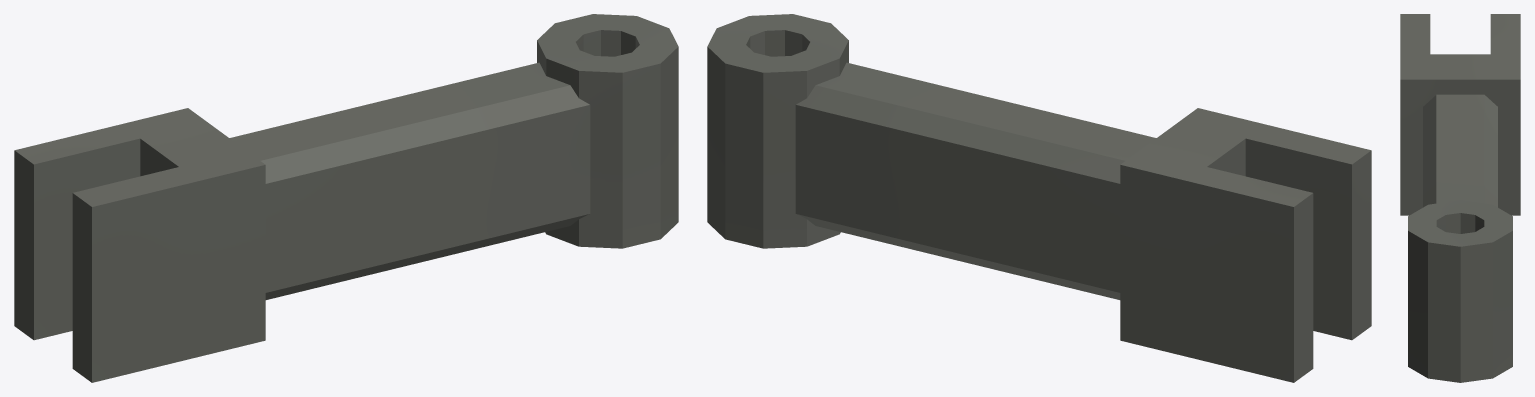
File: WarrensC_PWC20_Spanner_Mars_SM.fbx
3 renders of one model, left to right at view 1: azimuth 30°, elevation 25°; view 2: azimuth 150°, elevation 25°; view 3: azimuth 270°, elevation 25°, orthographic. The views are drawn at different scales.
Parts seen in each view (by area): view 1: WarrensC_PWC20_Spanner_Mars_SM.001; view 2: WarrensC_PWC20_Spanner_Mars_SM.001; view 3: WarrensC_PWC20_Spanner_Mars_SM.001.
Part boxes in pixels (x1,y1,x2,y2): WarrensC_PWC20_Spanner_Mars_SM.001: [14, 14, 678, 382]; WarrensC_PWC20_Spanner_Mars_SM.001: [707, 14, 1371, 382]; WarrensC_PWC20_Spanner_Mars_SM.001: [1400, 14, 1520, 382].
Size of the model in its own units: 55 by 12 by 15.
